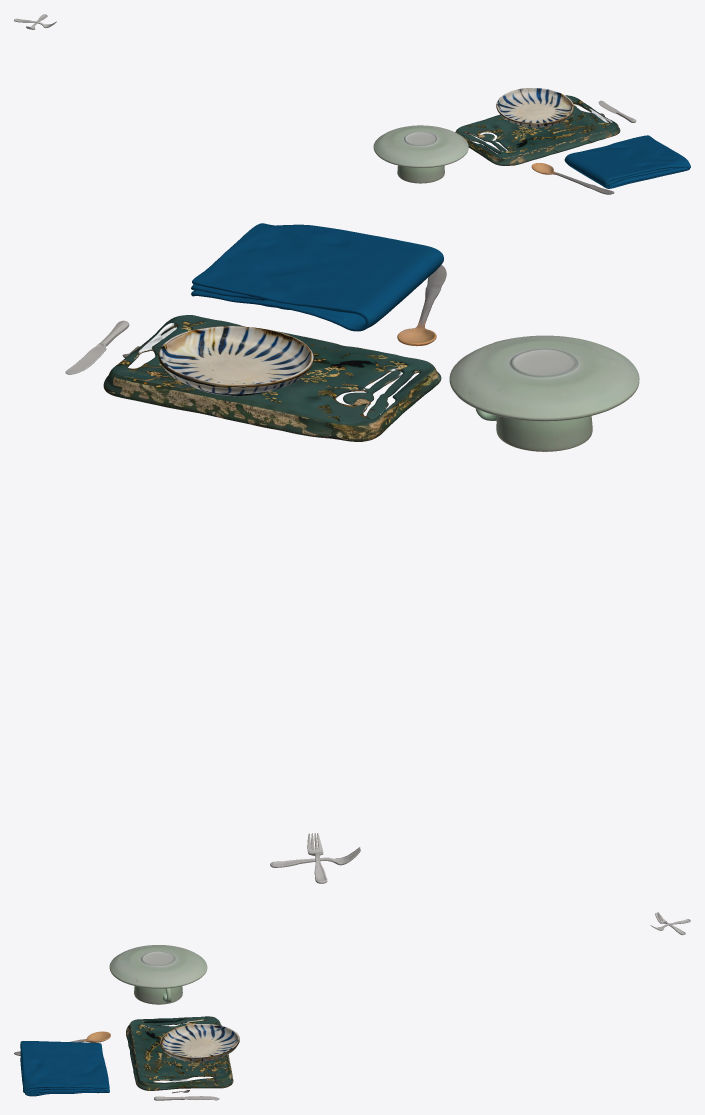
File: simfoundry.glb
3 views of the same model, one above another, from view 1: azimuth 30°, elevation 25°; view 2: azimuth 150°, elevation 25°; view 3: azimuth 270°, elevation 25° (orthographic). The views are drawn at different scales.
Parts seen in each view (by area): view 1: green_tray_fwlzsp_link_iter_2_canonical_mesh_obj, blue_cloth_ybtgal_link_iter_0_canonical_mesh_obj, green_cup_and_saucer_btiqpj_link_iter_4_canonical_mesh_obj, blue_striped_plate_zwryfx_link_iter_6_canonical_mesh_obj, silver_spoon_vxhgxk_link_iter_1_canonical_mesh_obj; view 2: green_tray_fwlzsp_link_iter_2_canonical_mesh_obj, blue_cloth_ybtgal_link_iter_0_canonical_mesh_obj, green_cup_and_saucer_btiqpj_link_iter_4_canonical_mesh_obj, blue_striped_plate_zwryfx_link_iter_6_canonical_mesh_obj, silver_spoon_vxhgxk_link_iter_1_canonical_mesh_obj, silver_fork_ajtufx_link_iter_7_canonical_mesh_obj; view 3: green_tray_fwlzsp_link_iter_2_canonical_mesh_obj, blue_cloth_ybtgal_link_iter_0_canonical_mesh_obj, green_cup_and_saucer_btiqpj_link_iter_4_canonical_mesh_obj, blue_striped_plate_zwryfx_link_iter_6_canonical_mesh_obj.
Boxes of the visible parts, box(x1,y1,x2,y2) form: green_tray_fwlzsp_link_iter_2_canonical_mesh_obj: box(455, 95, 620, 165); blue_cloth_ybtgal_link_iter_0_canonical_mesh_obj: box(564, 135, 690, 188); green_cup_and_saucer_btiqpj_link_iter_4_canonical_mesh_obj: box(373, 125, 468, 183); blue_striped_plate_zwryfx_link_iter_6_canonical_mesh_obj: box(496, 88, 573, 127); silver_spoon_vxhgxk_link_iter_1_canonical_mesh_obj: box(531, 163, 614, 194); green_tray_fwlzsp_link_iter_2_canonical_mesh_obj: box(103, 315, 441, 441); blue_cloth_ybtgal_link_iter_0_canonical_mesh_obj: box(191, 223, 443, 331); green_cup_and_saucer_btiqpj_link_iter_4_canonical_mesh_obj: box(449, 335, 639, 451); blue_striped_plate_zwryfx_link_iter_6_canonical_mesh_obj: box(158, 326, 313, 396); silver_spoon_vxhgxk_link_iter_1_canonical_mesh_obj: box(397, 265, 446, 346); silver_fork_ajtufx_link_iter_7_canonical_mesh_obj: box(270, 833, 360, 883); green_tray_fwlzsp_link_iter_2_canonical_mesh_obj: box(126, 1016, 233, 1090); blue_cloth_ybtgal_link_iter_0_canonical_mesh_obj: box(20, 1041, 109, 1096); green_cup_and_saucer_btiqpj_link_iter_4_canonical_mesh_obj: box(109, 945, 207, 1004); blue_striped_plate_zwryfx_link_iter_6_canonical_mesh_obj: box(160, 1024, 239, 1062).
Size of what is drawn, in the model's own units: 1.05 by 0.0976 by 1.64.
8 materials, 8 textured.
